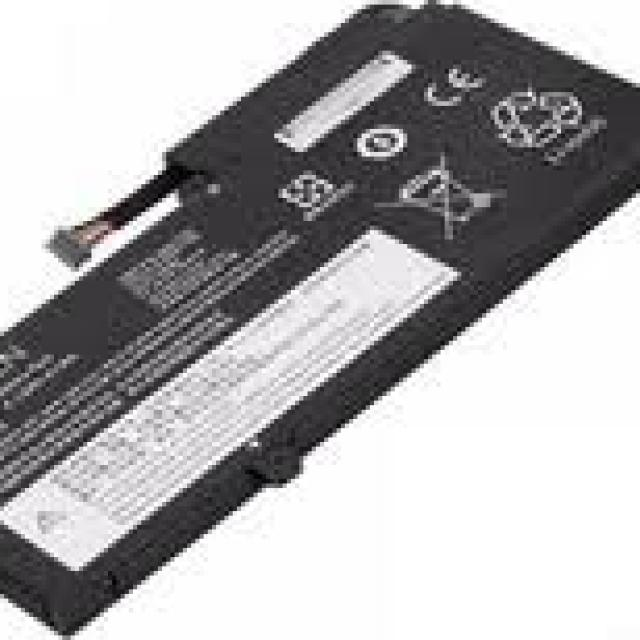organic: (8, 4, 624, 628)
